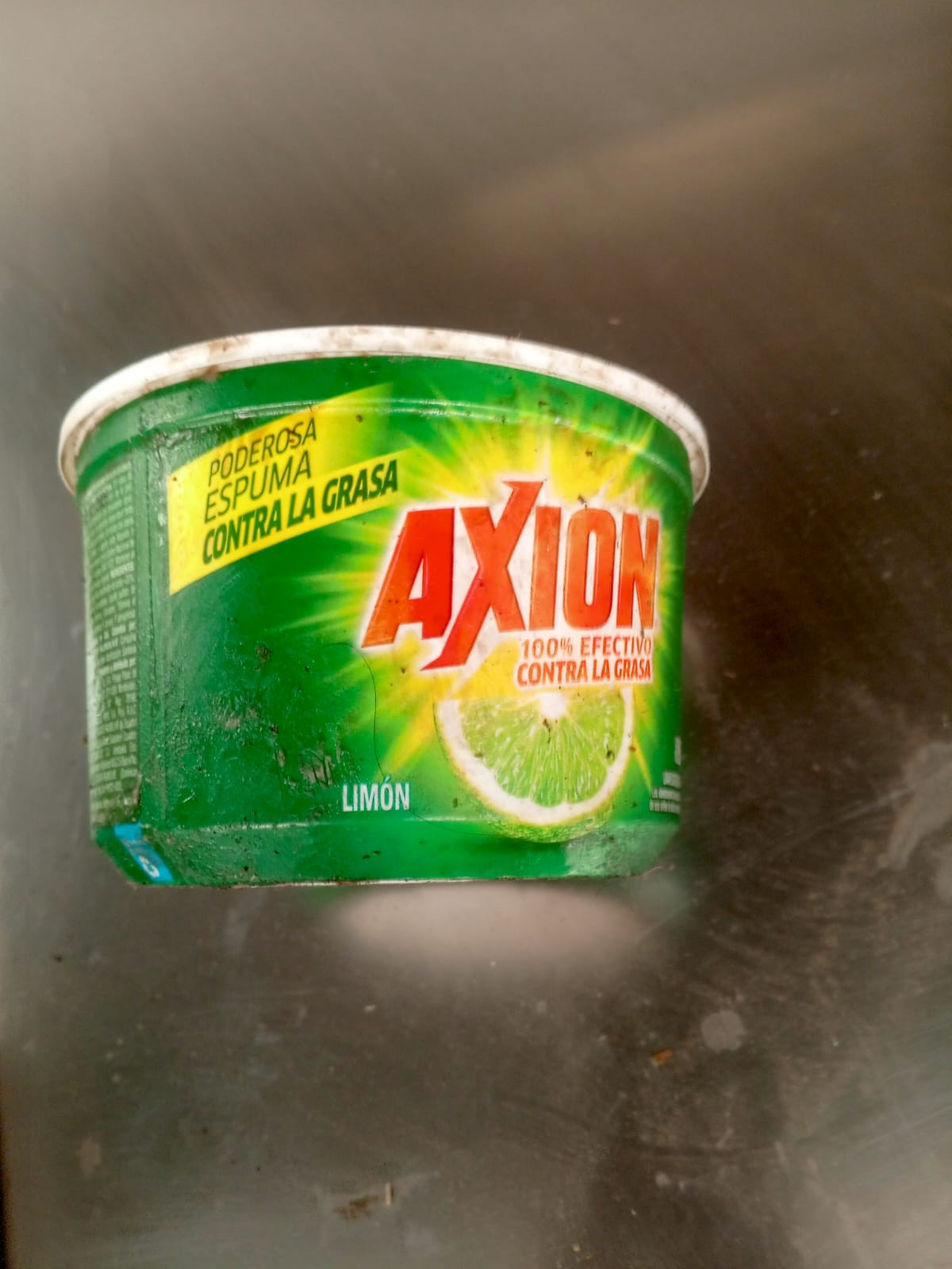Plastico: (51, 326, 710, 888)
